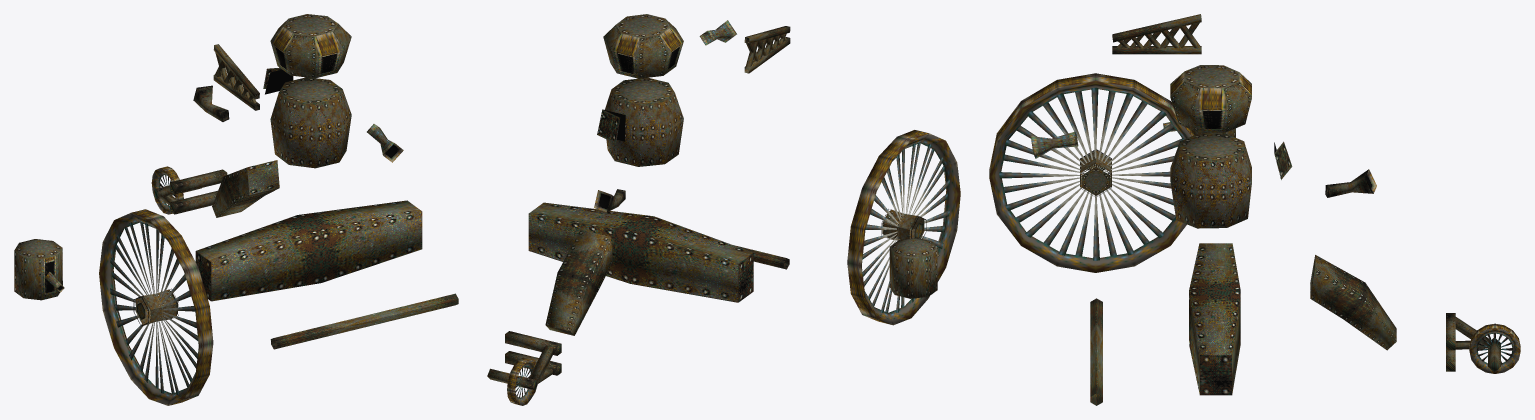
File: Tank Tsar.FBX
The picture shows the model from 3 angles, left to right: view 1: azimuth 30°, elevation 25°; view 2: azimuth 150°, elevation 25°; view 3: azimuth 270°, elevation 25°; orthographic projection. The views are drawn at different scales.
Visible parts, largest first — view 1: HorizontalChasis, BigWheel, Turret (×2), CoreChasis, VerticalChasis, Axel, LittleWheelHub, Strut, LittleWheel, Exhaust, Gun, Door; view 2: HorizontalChasis, BigWheel, Turret (×2), CoreChasis, VerticalChasis, Strut, LittleWheelHub, LittleWheel, Door, Exhaust, LittleWheelSupport, Gun (+2 smaller); view 3: BigWheel, HorizontalChasis, CoreChasis, Turret, VerticalChasis, Strut, LittleWheel, Axel, Exhaust, Gun, LittleWheelHub, LittleWheelSupport.
Boxes of the visible parts, x1,y1,x2,y2 form: HorizontalChasis: (195,200,422,301); BigWheel: (99,209,213,405); Turret (×2): (14,14,351,300); CoreChasis: (270,77,351,168); VerticalChasis: (212,160,279,217); Axel: (270,293,458,349); LittleWheelHub: (170,169,227,214); Strut: (213,44,259,110); LittleWheel: (151,166,183,214); Exhaust: (193,85,229,121); Gun: (367,124,403,162); Door: (263,67,293,94); HorizontalChasis: (528,202,753,302); BigWheel: (847,130,960,325); Turret (×2): (603,14,937,298); CoreChasis: (605,77,683,166); VerticalChasis: (545,230,612,335); Strut: (744,26,790,73); LittleWheelHub: (505,331,561,375); LittleWheel: (507,358,537,405); Door: (597,109,625,143); Exhaust: (594,189,625,212); LittleWheelSupport: (529,345,552,383); Gun: (699,20,736,45); BigWheel: (989,73,1195,272); HorizontalChasis: (1189,243,1240,395); CoreChasis: (1170,133,1251,228); Turret: (1170,65,1251,132); VerticalChasis: (1310,255,1396,350); Strut: (1112,14,1201,54); LittleWheel: (1469,323,1520,373); Axel: (1090,298,1102,405); Exhaust: (1325,169,1376,197); Gun: (1030,131,1078,158); LittleWheelHub: (1446,313,1455,371); LittleWheelSupport: (1455,317,1491,349).
Size of the model in its own units: 315 by 220 by 340.
